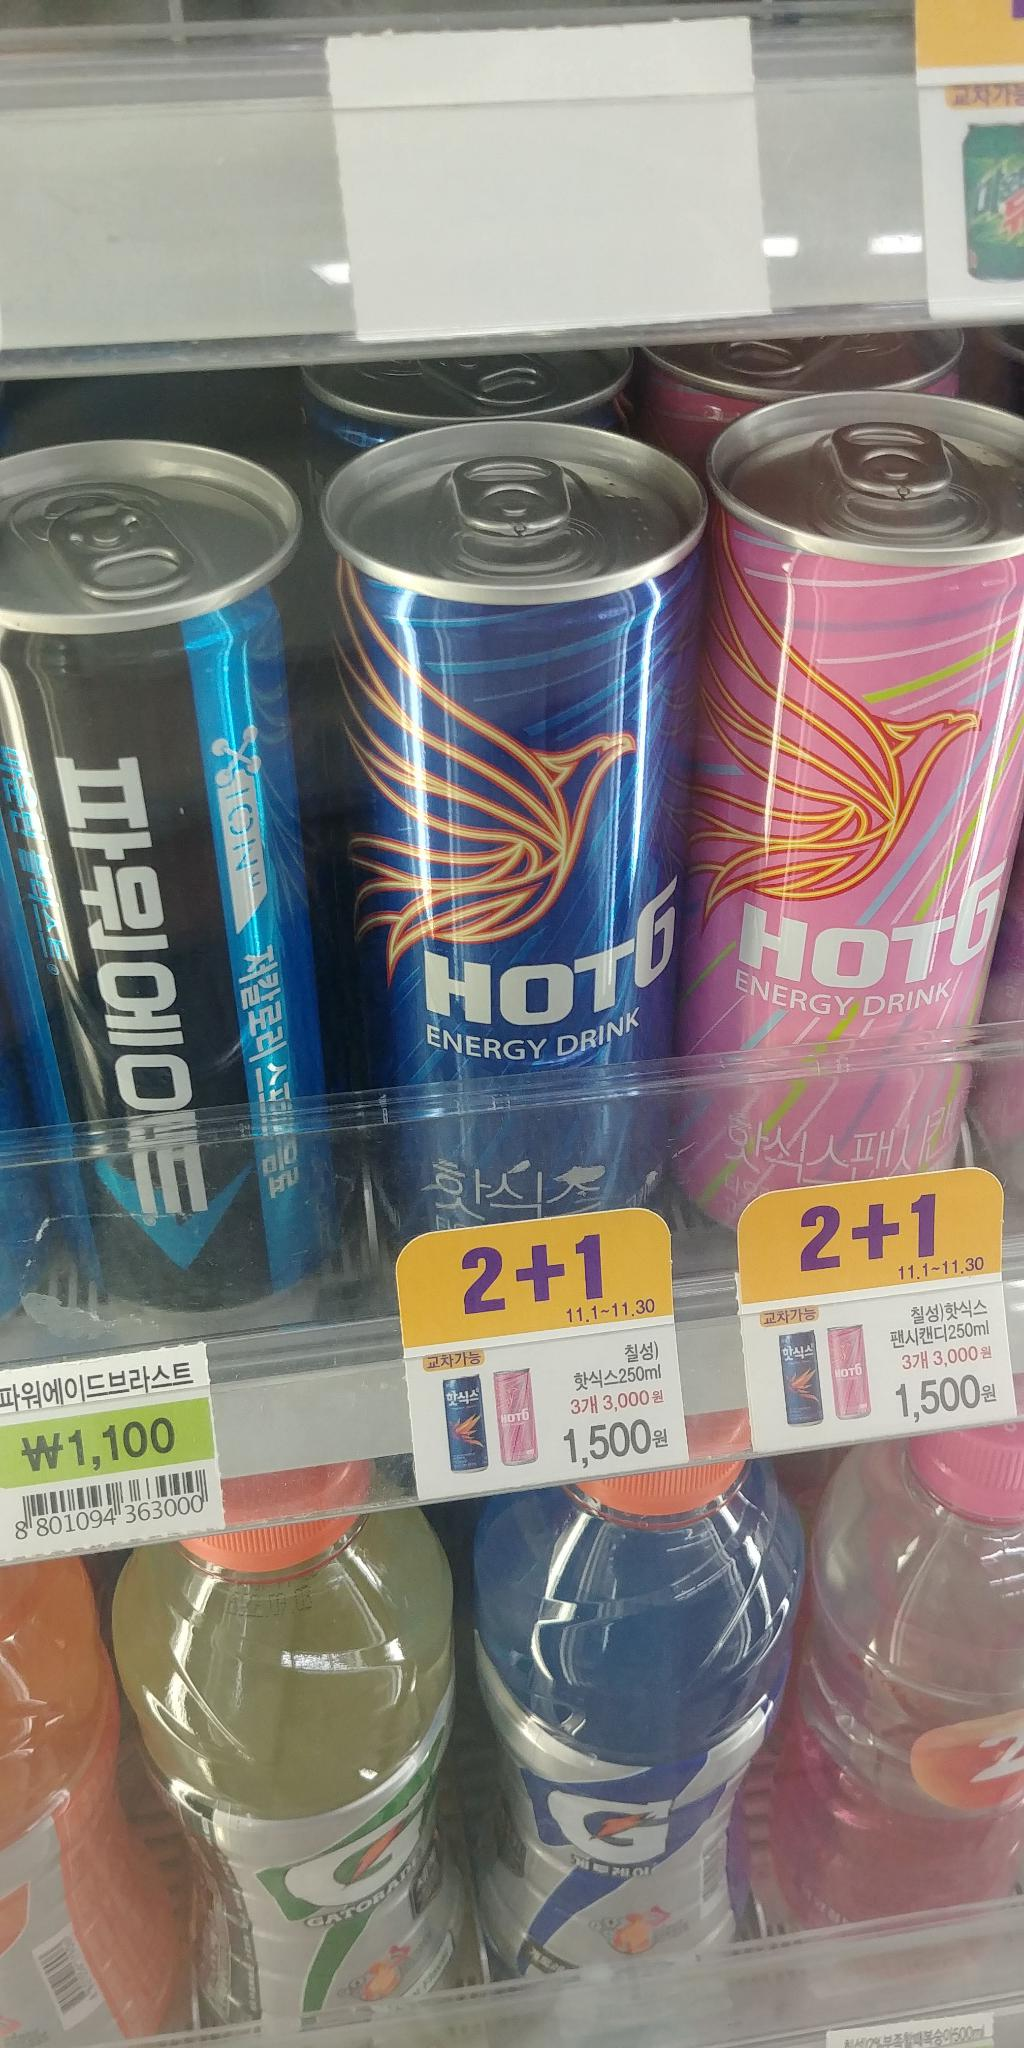hotsix_org: (300, 434, 701, 1275)
